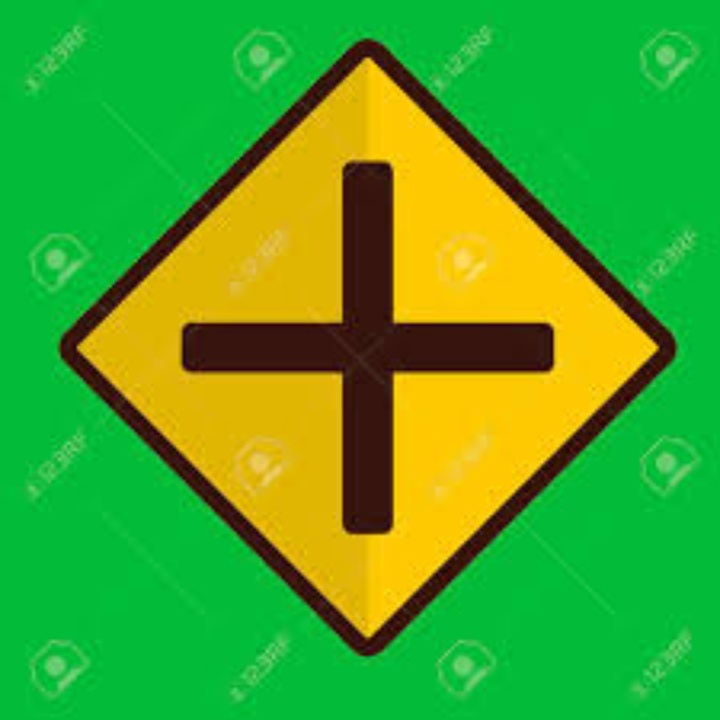inter: (175, 156, 563, 543)
